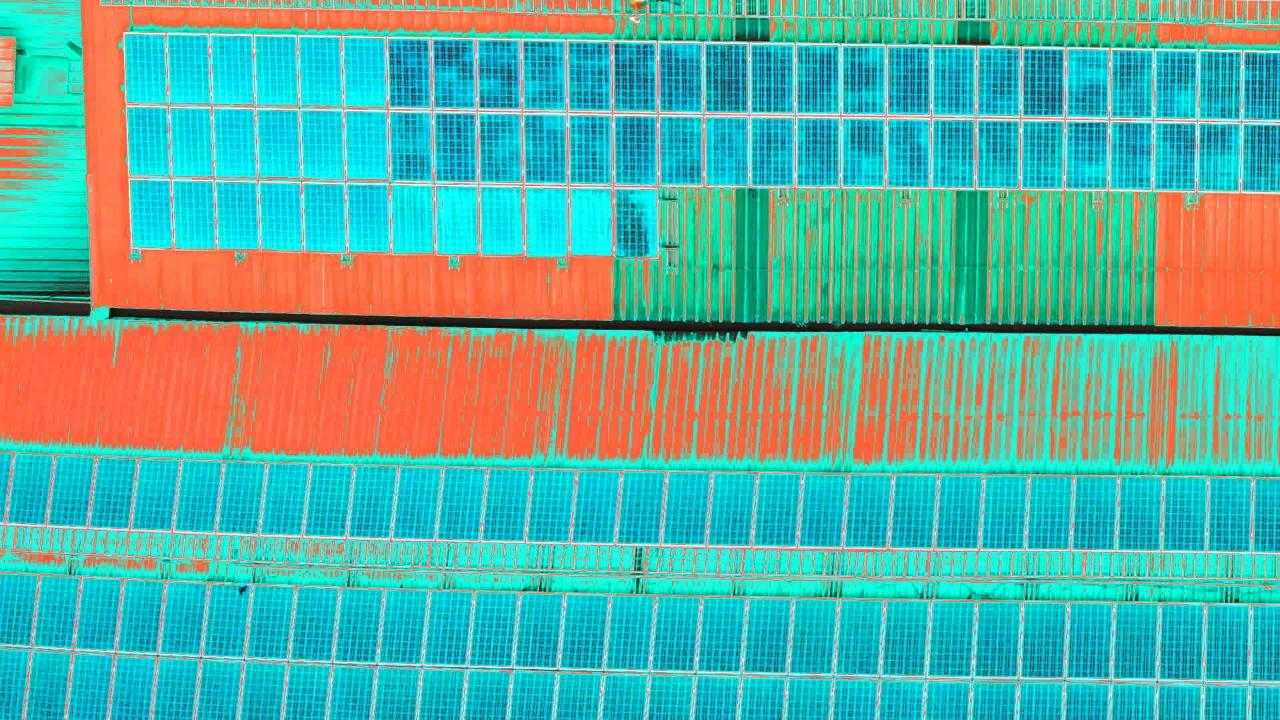dirty: (2, 569, 1280, 718), (4, 447, 1280, 546), (120, 36, 391, 252), (391, 185, 654, 259)
semi: (386, 37, 1280, 188)
